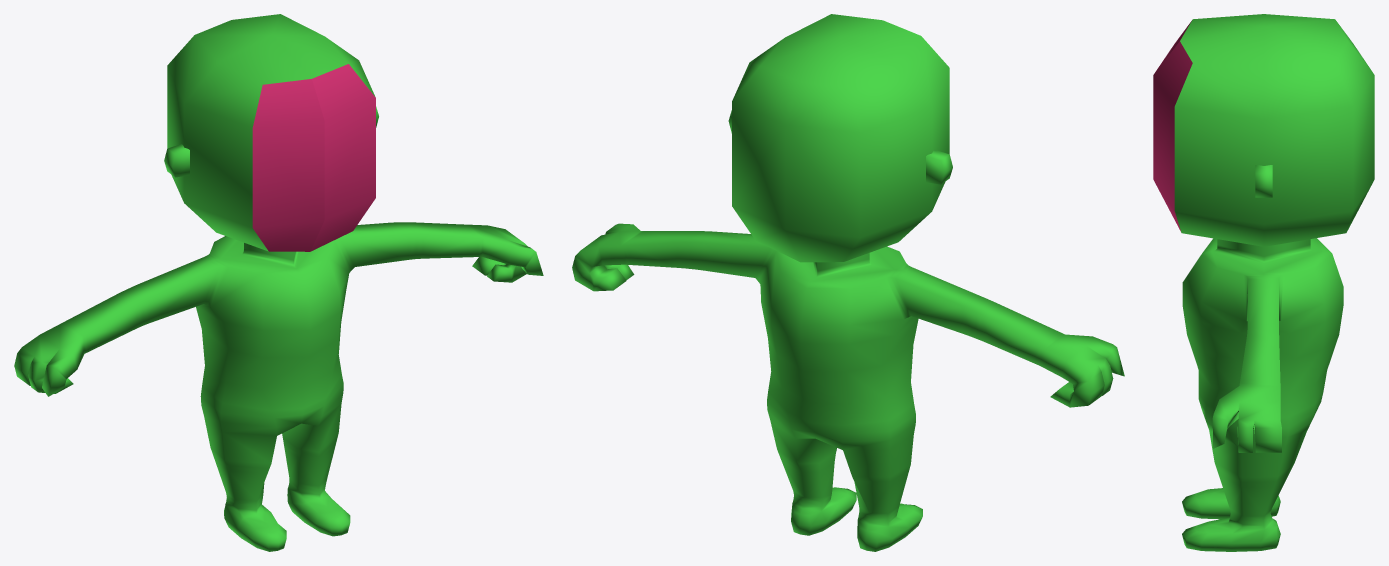
The model's file is CharacterUVModel.fbx.
3 views of the same model, side by side, from view 1: azimuth 30°, elevation 25°; view 2: azimuth 150°, elevation 25°; view 3: azimuth 270°, elevation 25° (orthographic). The views are drawn at different scales.
Parts seen in each view (by area): view 1: body; view 2: body; view 3: body.
Part boxes in pixels (x1,y1,x2,y2): body: (14, 14, 543, 551); body: (572, 14, 1124, 551); body: (1153, 14, 1374, 551).
Size of the model in its own units: 208 by 192 by 76.65.
